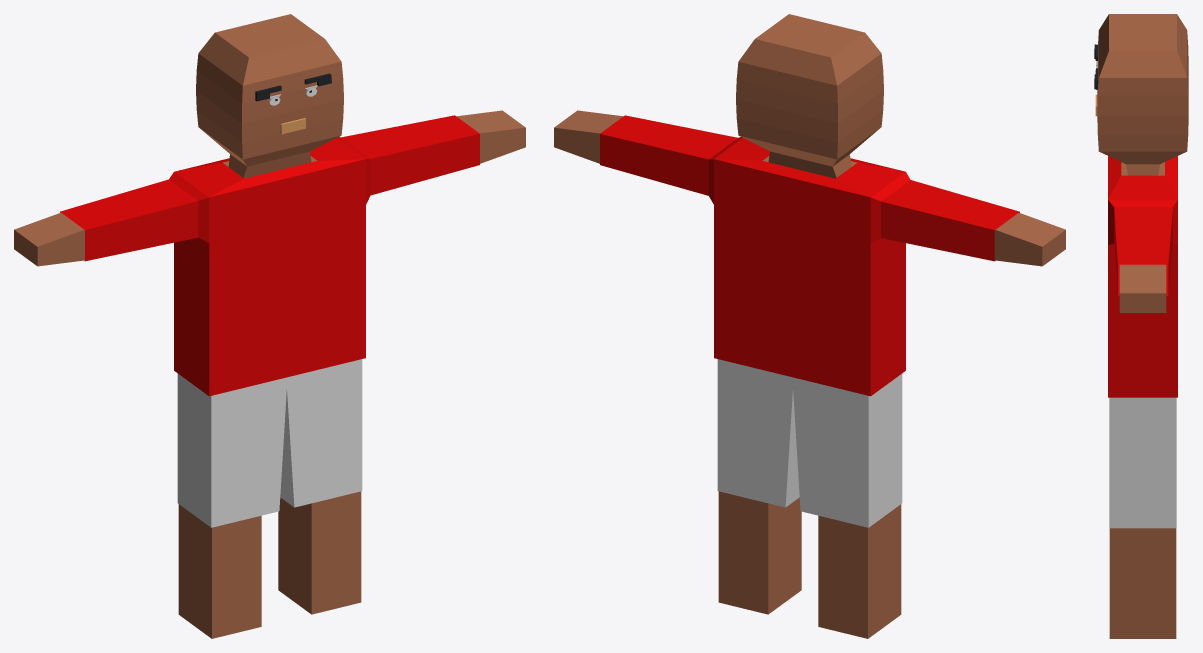
Rendered from character1.glb.
3 views of the same model, side by side, from view 1: azimuth 30°, elevation 25°; view 2: azimuth 150°, elevation 25°; view 3: azimuth 270°, elevation 25° (orthographic).
Parts seen in each view (by area): view 1: Cube.001, Cube, Cube.002; view 2: Cube.001, Cube, Cube.002; view 3: Cube, Cube.001, Cube.002.
Boxes of the visible parts, left/top/right/bottom form: Cube.001: left=60, top=115, right=479, bottom=396; Cube: left=14, top=14, right=525, bottom=638; Cube.002: left=177, top=359, right=362, bottom=527; Cube.001: left=600, top=115, right=1019, bottom=396; Cube: left=554, top=14, right=1065, bottom=638; Cube.002: left=717, top=359, right=902, bottom=527; Cube: left=1094, top=14, right=1188, bottom=638; Cube.001: left=1108, top=156, right=1177, bottom=397; Cube.002: left=1109, top=397, right=1176, bottom=528.
Bounding box in the file's own units: 1.8 × 2.01 × 0.3027.
